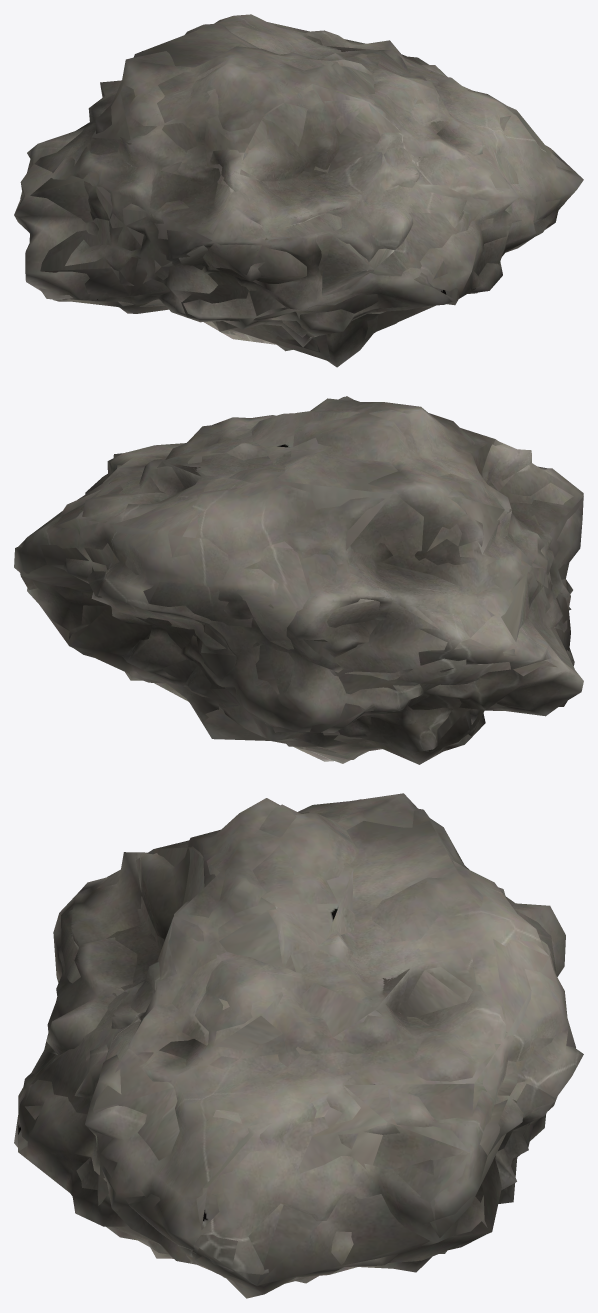
Rendered from asteroid_d.glb.
3 renders of one model, top to bottom at view 1: azimuth 30°, elevation 25°; view 2: azimuth 150°, elevation 25°; view 3: azimuth 270°, elevation 25°, orthographic. The views are drawn at different scales.
Parts seen in each view (by area): view 1: Asteroid_D, Asteroid_D_LOD; view 2: Asteroid_D, Asteroid_D_LOD; view 3: Asteroid_D, Asteroid_D_LOD.
Boxes of the visible parts, bbox=[...] form: Asteroid_D: bbox=[14, 14, 583, 367]; Asteroid_D_LOD: bbox=[20, 20, 573, 361]; Asteroid_D: bbox=[14, 396, 583, 764]; Asteroid_D_LOD: bbox=[18, 396, 583, 763]; Asteroid_D: bbox=[14, 793, 583, 1298]; Asteroid_D_LOD: bbox=[18, 799, 575, 1286].
Size of the model in its own units: 1.94 by 1.13 by 1.43.
Materials: 1 (1 with a texture image).
